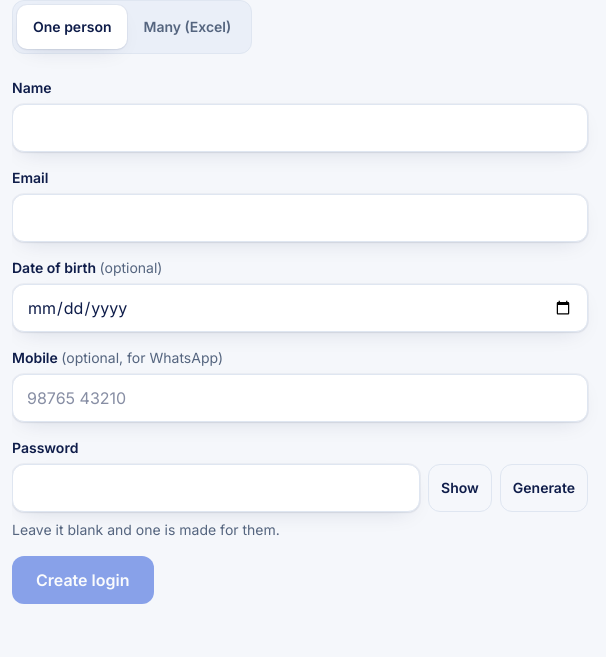
Test case: AddPeopleForm — one person › says what is wrong with a field before sending
This screenshot has width=606, height=657.
Type "Arjun Mehta" into the field labelled "Name" at (300,128), box 12,104 -> 588,152
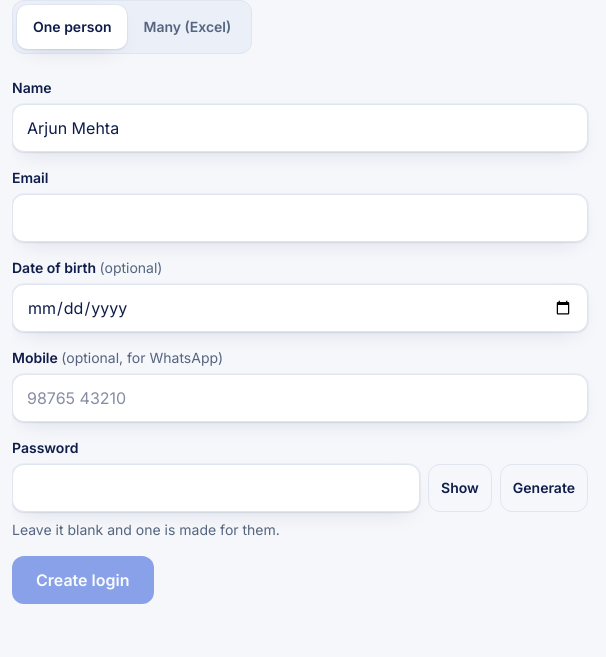
Type "arjun@" into the field labelled "Email" at (300,218), box 12,194 -> 588,242
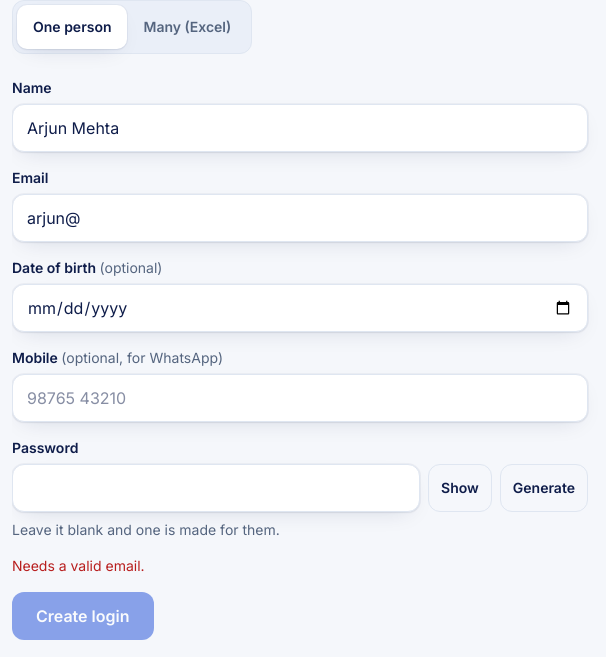
Expected: the text "Needs a valid email." is shown, 12,557 -> 145,574
